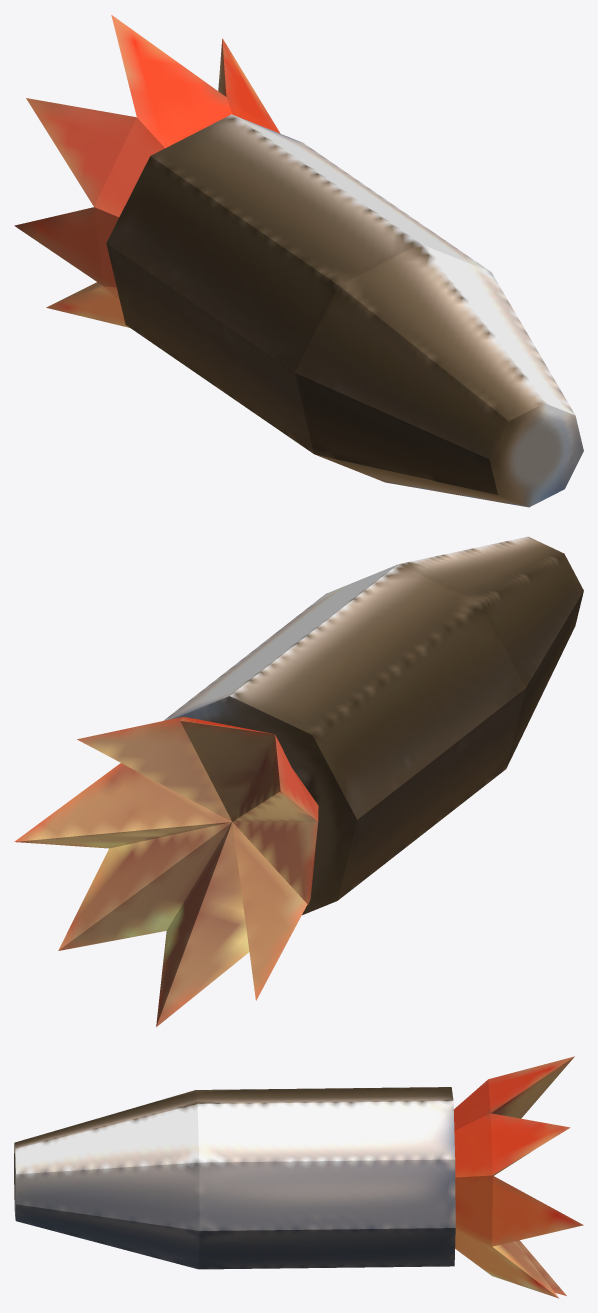
The picture shows the model from 3 angles, top to bottom: view 1: azimuth 30°, elevation 25°; view 2: azimuth 150°, elevation 25°; view 3: azimuth 270°, elevation 25°; orthographic projection. The views are drawn at different scales.
Parts seen in each view (by area): view 1: Bala_Cylinder.003, Fogonazo_Cylinder.004; view 2: Bala_Cylinder.003, Fogonazo_Cylinder.004; view 3: Bala_Cylinder.003, Fogonazo_Cylinder.004.
Part boxes in pixels (x1,y1,x2,y2): Bala_Cylinder.003: (106,114,583,507); Fogonazo_Cylinder.004: (14,15,280,327); Bala_Cylinder.003: (163,536,583,915); Fogonazo_Cylinder.004: (14,716,318,1027); Bala_Cylinder.003: (14,1087,455,1269); Fogonazo_Cylinder.004: (453,1056,583,1298).
Size of what is drawn, in the model's own units: 0.3484 by 0.389 by 0.8753.
